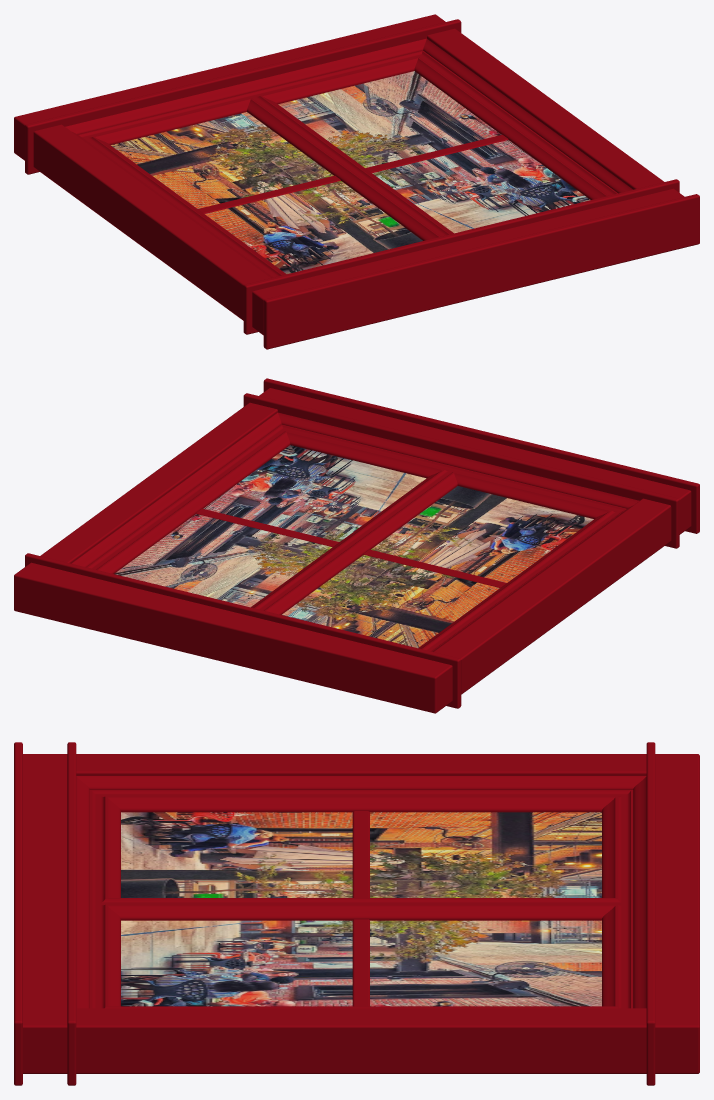
The model's file is window.fbx.
3 views of the same model, one above another, from view 1: azimuth 30°, elevation 25°; view 2: azimuth 150°, elevation 25°; view 3: azimuth 270°, elevation 25° (orthographic). The views are drawn at different scales.
Visible parts, largest first — view 1: External Frame Square, Cube, Internal Frame Square; view 2: External Frame Square, Cube, Internal Frame Square; view 3: External Frame Square, Cube, Internal Frame Square.
Part boxes in pixels (box(x1,y1,x2,y2)): External Frame Square: box(14, 14, 699, 349); Cube: box(111, 71, 590, 273); Internal Frame Square: box(65, 38, 632, 277); External Frame Square: box(14, 378, 699, 713); Cube: box(114, 445, 593, 648); Internal Frame Square: box(72, 412, 639, 651); External Frame Square: box(14, 742, 699, 1085); Cube: box(121, 812, 601, 1006); Internal Frame Square: box(76, 776, 646, 1008).
Bounding box in the file's own units: 74.5 × 8 × 77.
2 materials, 1 textured.
